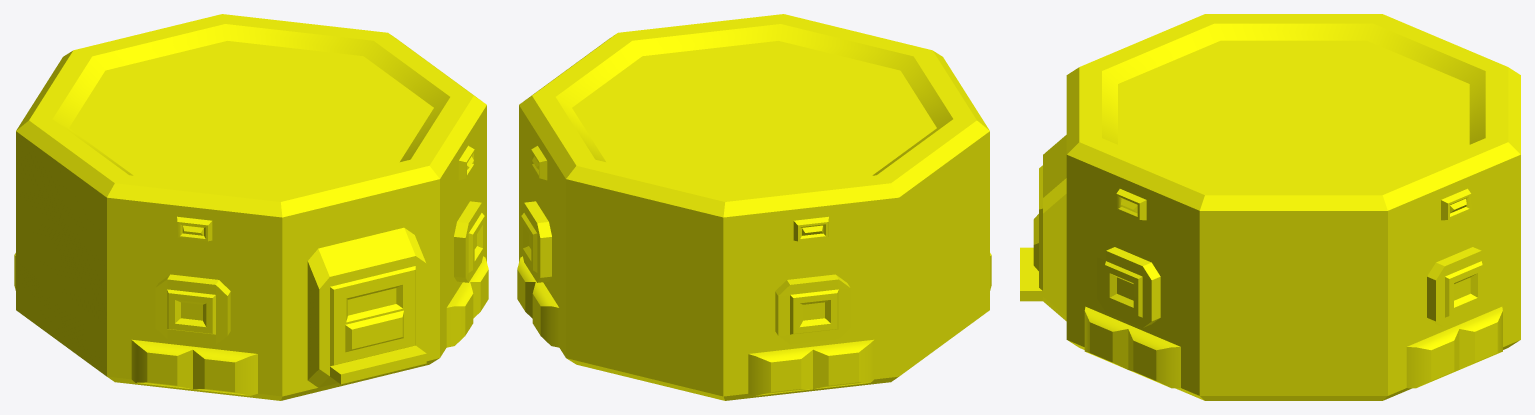
The model's file is kaykit-basemodule-c.glb.
3 renders of one model, left to right at view 1: azimuth 30°, elevation 25°; view 2: azimuth 150°, elevation 25°; view 3: azimuth 270°, elevation 25°, orthographic. The views are drawn at different scales.
Parts seen in each view (by area): view 1: basemodule_C; view 2: basemodule_C; view 3: basemodule_C.
Boxes of the visible parts, left/top/right/bottom form: basemodule_C: left=14, top=14, right=488, bottom=400; basemodule_C: left=517, top=14, right=991, bottom=400; basemodule_C: left=1020, top=14, right=1520, bottom=400.
Size of the model in its own units: 2 by 1 by 2.21.
